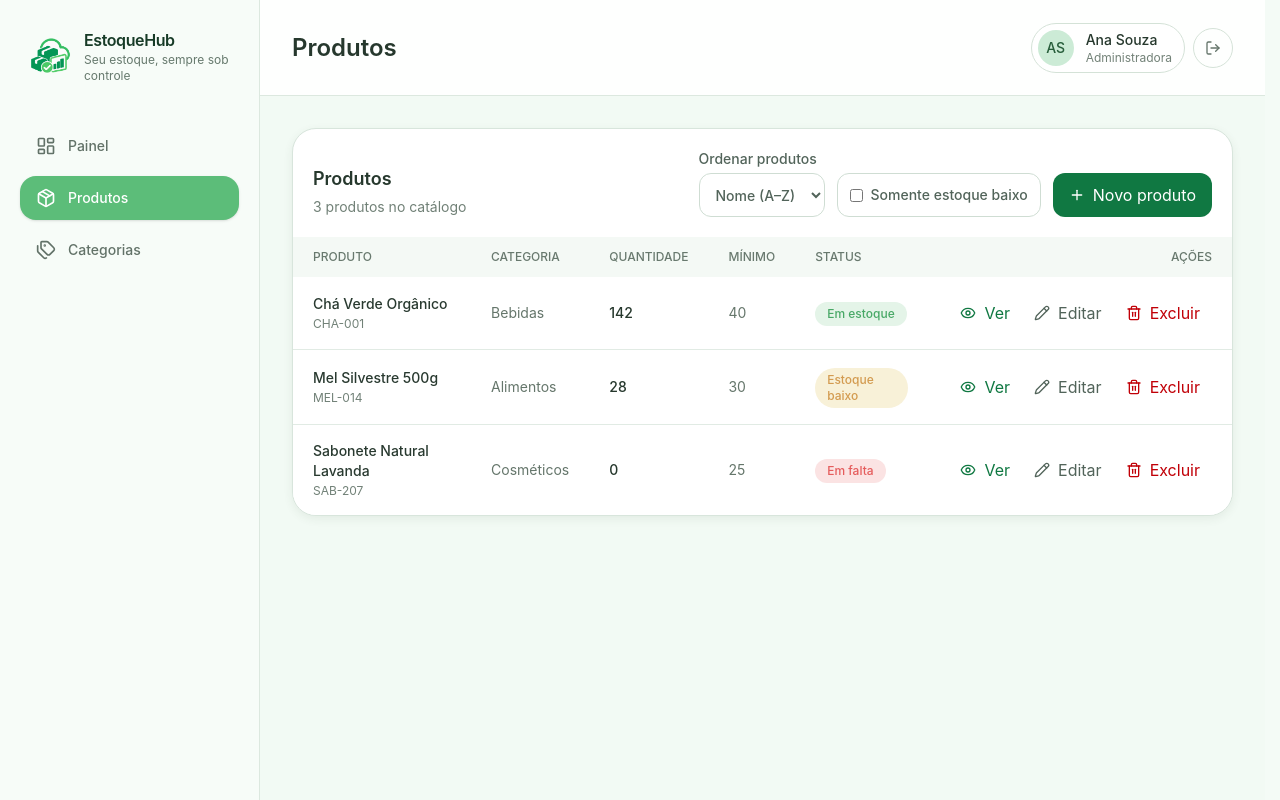
Test case: ProductsPage › allows an admin to edit only supported product fields
Click the button with aria-label "editar chá verde orgânico".
click(1068, 313)  # box 1022,293 -> 1114,333
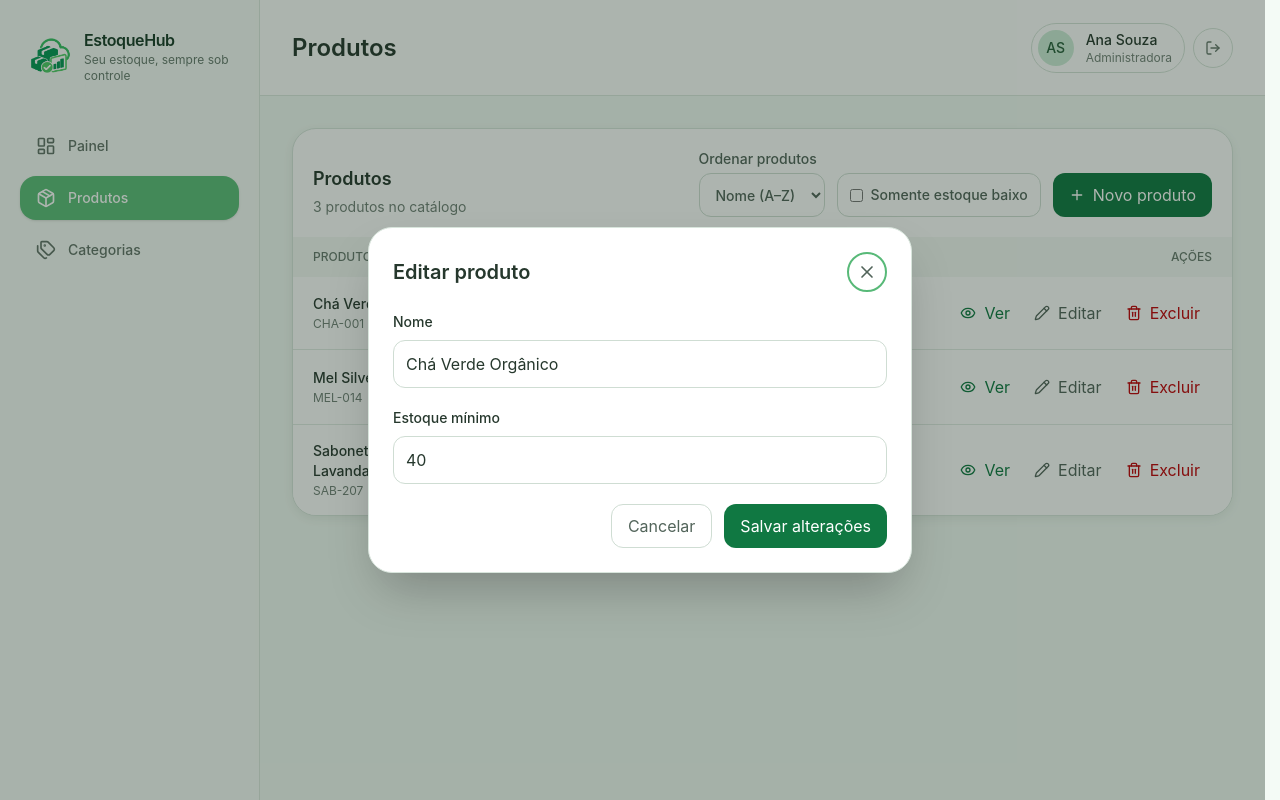
Replace the text in the field labelled "Nome" with "Chá Verde Premium" at (640, 364), box 393,340 -> 887,388
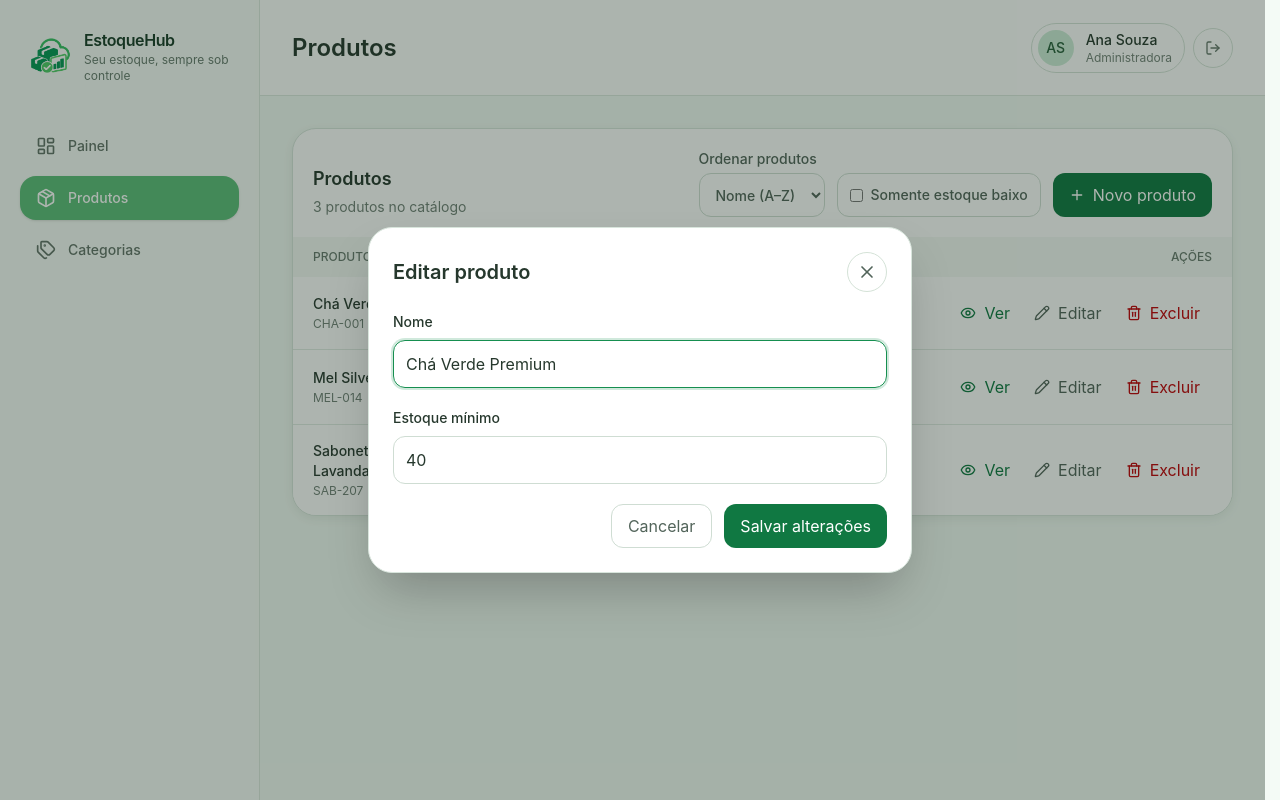
Replace the text in the number field labelled "Estoque mínimo" with "50" at (640, 460), box 393,436 -> 887,484
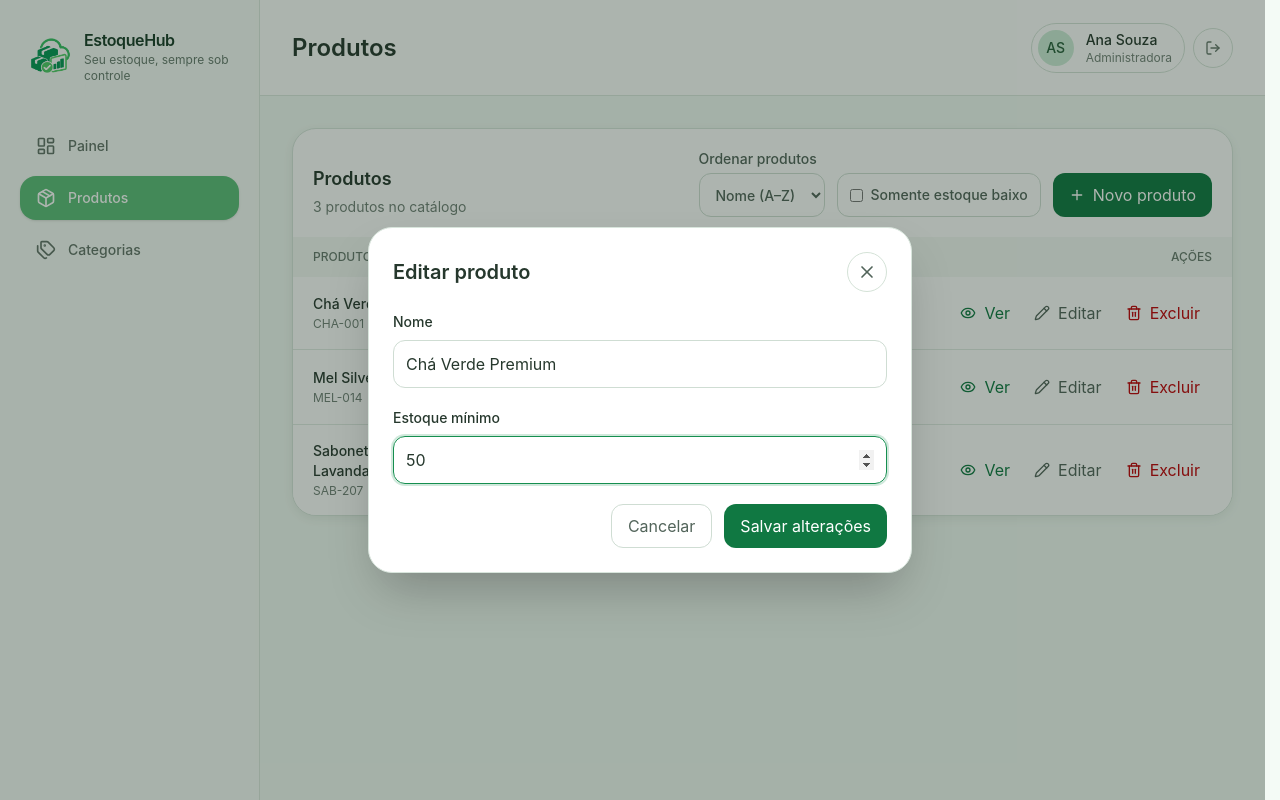
Click the button "Salvar alterações".
click(806, 526)  # box 724,504 -> 887,548
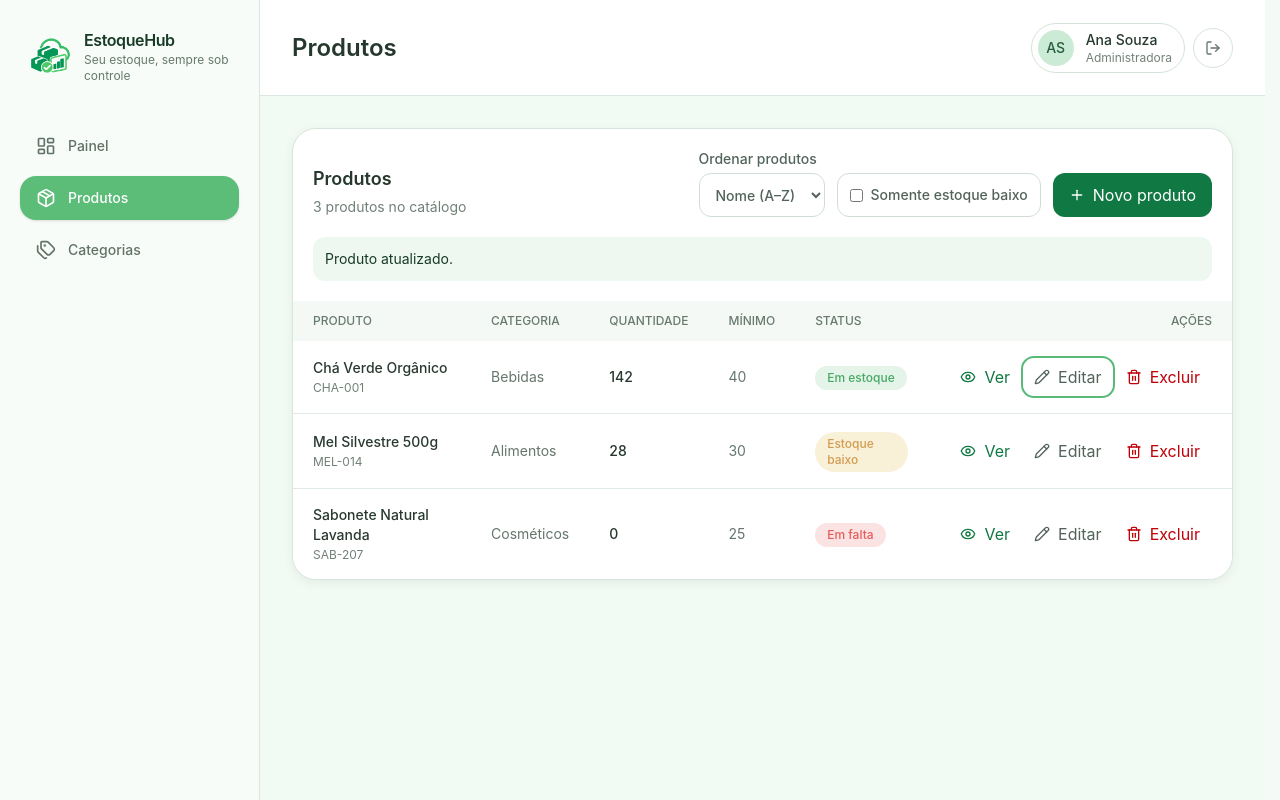
Result: the text "Produto atualizado." is shown at 313,237 -> 1212,281
